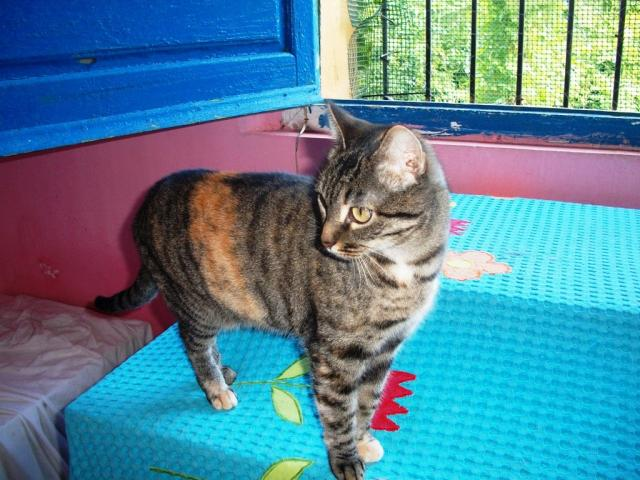Cat: (92, 100, 444, 480)
